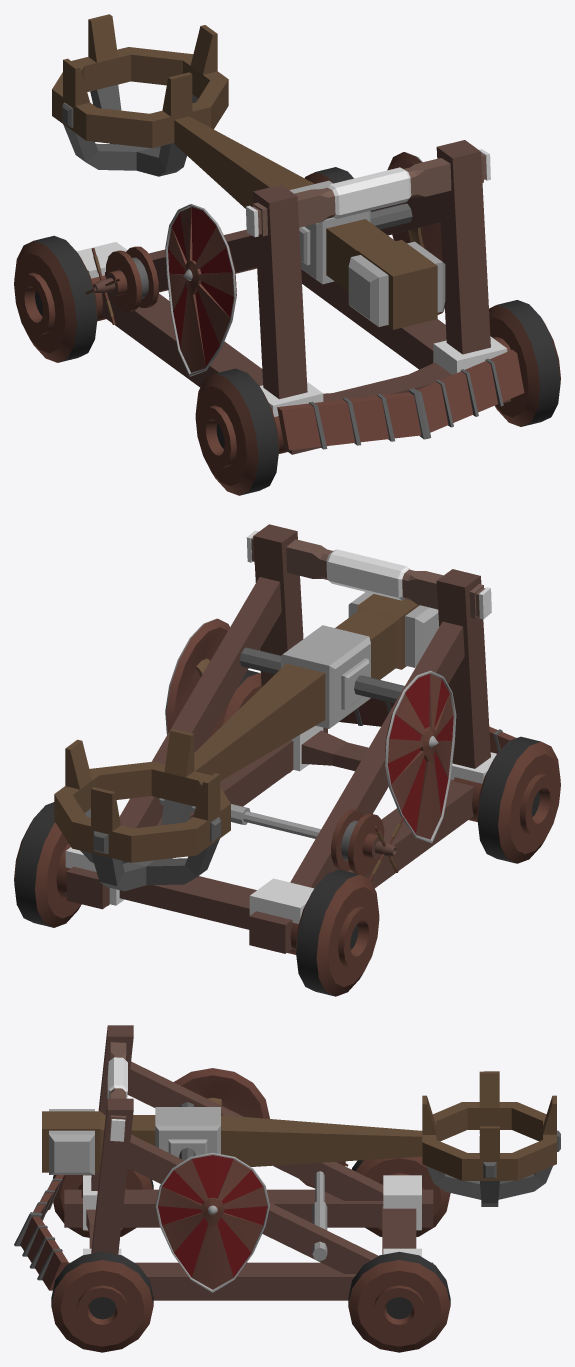
3 renders of one model, top to bottom at view 1: azimuth 30°, elevation 25°; view 2: azimuth 150°, elevation 25°; view 3: azimuth 270°, elevation 25°, orthographic. The views are drawn at different scales.
Parts seen in each view (by area): view 1: Cube.006, Cube.001; view 2: Cube.006, Cube.001; view 3: Cube.006, Cube.001.
Boxes of the visible parts, left/top/right/bottom form: Cube.006: left=14, top=140, right=560, bottom=495; Cube.001: left=52, top=14, right=445, bottom=329; Cube.006: left=14, top=524, right=560, bottom=996; Cube.001: left=54, top=592, right=439, bottom=891; Cube.006: left=14, top=1025, right=450, bottom=1352; Cube.001: left=42, top=1071, right=560, bottom=1206.
Bounding box in the file's own units: 0.6947 × 0.56 × 1.23.
